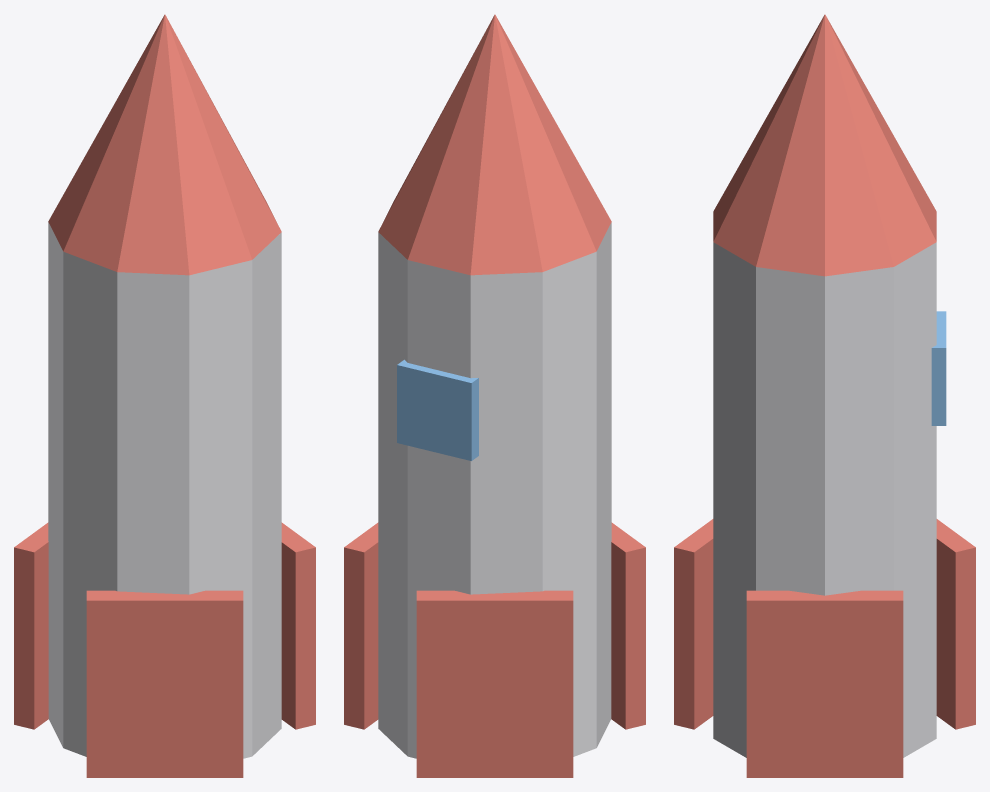
The model's file is rocket.glb.
3 views of the same model, side by side, from view 1: azimuth 30°, elevation 25°; view 2: azimuth 150°, elevation 25°; view 3: azimuth 270°, elevation 25° (orthographic).
Bounding box in the file's own units: 0.6682 × 2 × 0.7716.
